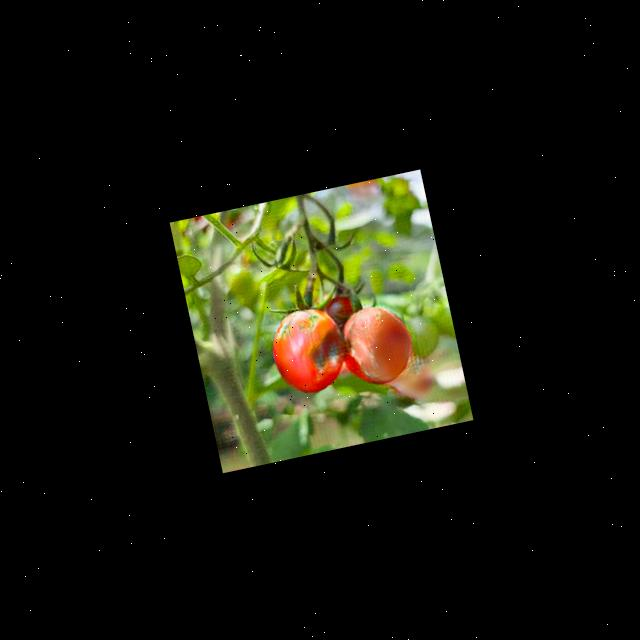tomato: (264, 302, 352, 400), (333, 298, 417, 390)
